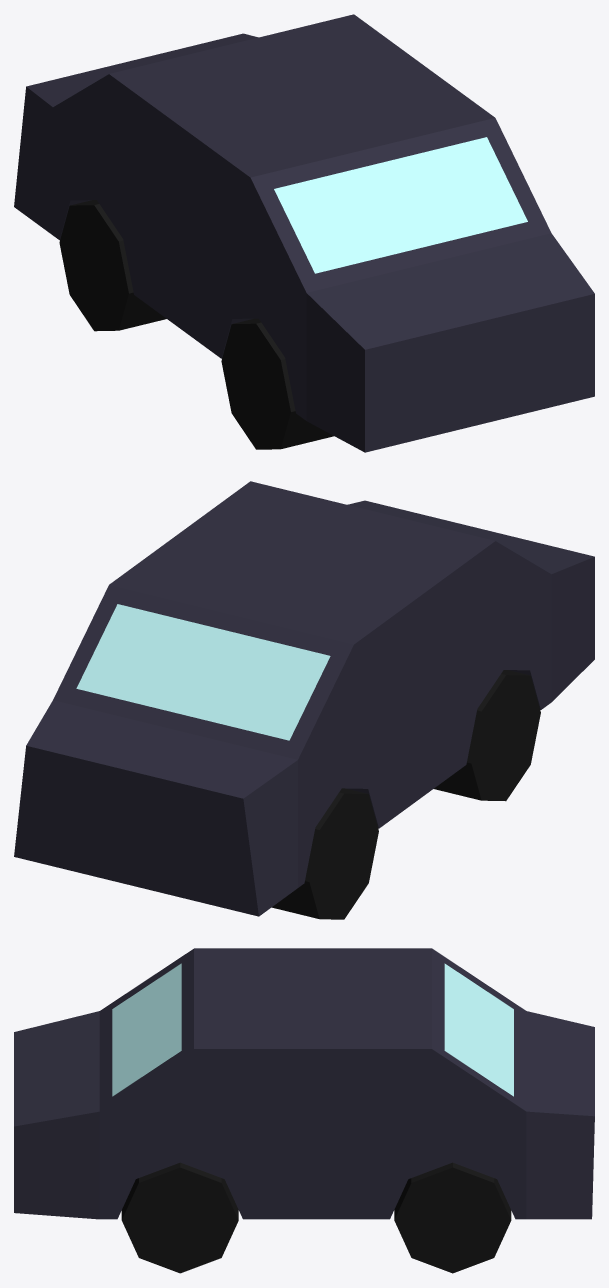
Rendered from github.glb.
3 renders of one model, top to bottom at view 1: azimuth 30°, elevation 25°; view 2: azimuth 150°, elevation 25°; view 3: azimuth 270°, elevation 25°, orthographic. The views are drawn at different scales.
Parts seen in each view (by area): view 1: Cube; view 2: Cube; view 3: Cube.
Boxes of the visible parts, left/top/right/bottom form: Cube: left=14, top=14, right=594, bottom=452; Cube: left=14, top=481, right=594, bottom=919; Cube: left=14, top=948, right=594, bottom=1273.
Bounding box in the file's own units: 2.04 × 2.07 × 4.88.
1 material, 1 textured.
